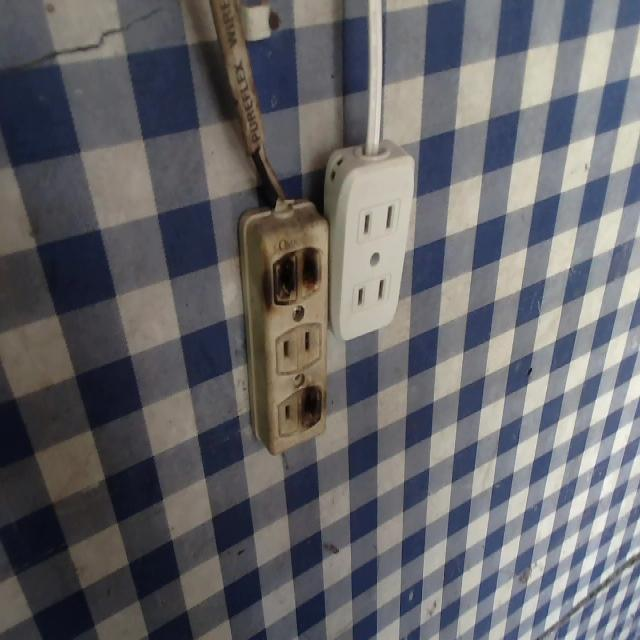-: (265, 243, 324, 304), (295, 382, 325, 434)
